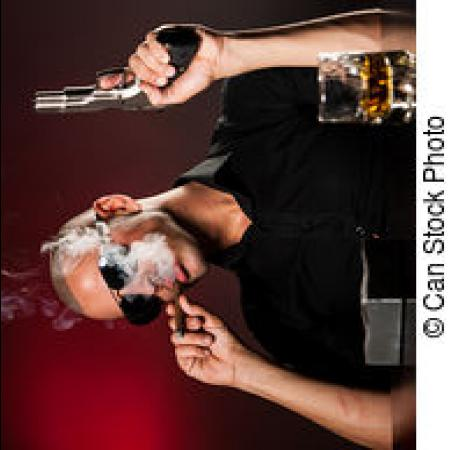Pistol: (28, 31, 198, 119)
